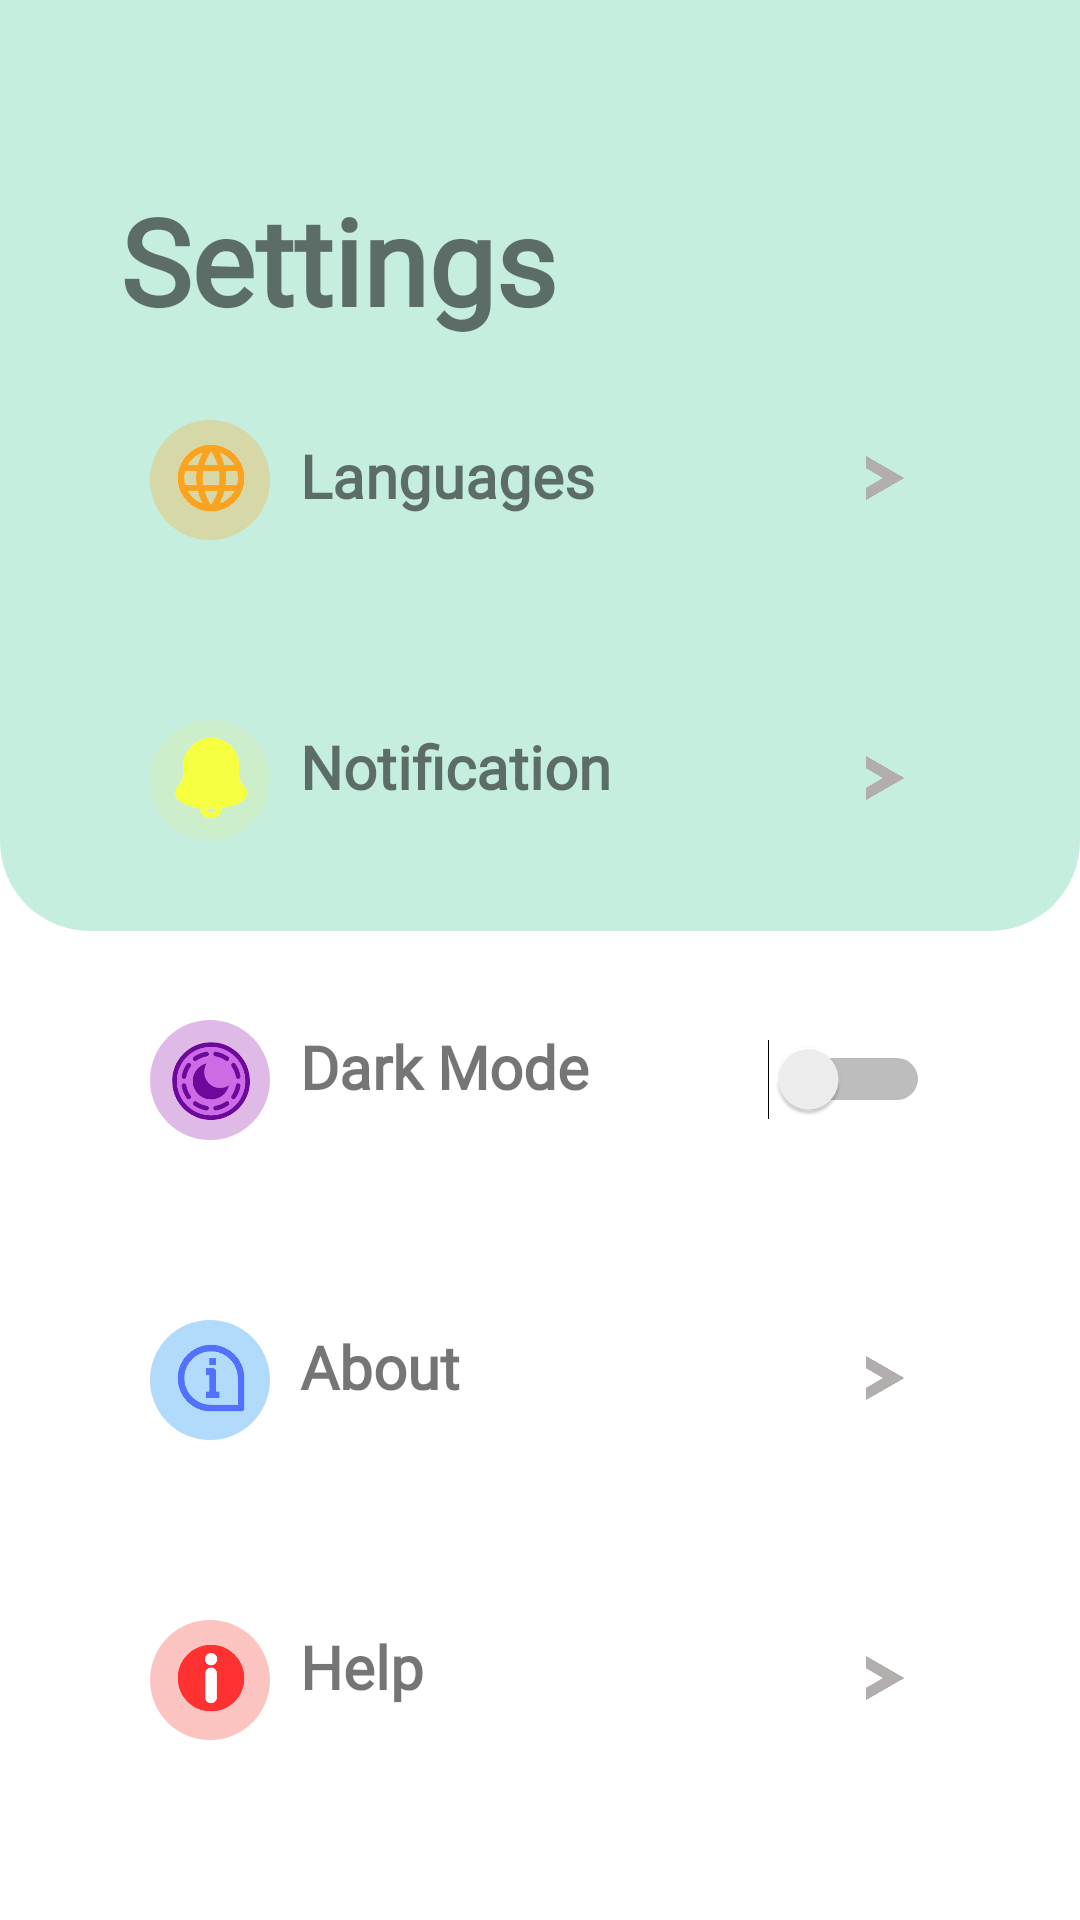

Named icons in this screenshot (1080px x 1920px) and their centers, [x,y]:
next: [885,478], [885,778], [885,1378], [885,1678]
